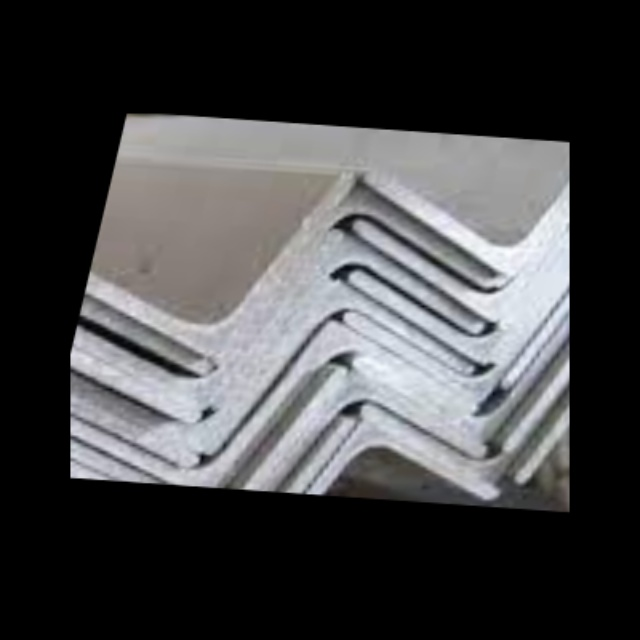Angle: (75, 174, 338, 351), (336, 241, 570, 395), (351, 284, 570, 438), (70, 366, 329, 494), (353, 129, 570, 269), (344, 185, 570, 315), (70, 361, 295, 491), (243, 387, 484, 505), (70, 290, 215, 478), (70, 407, 342, 495), (346, 247, 558, 355), (70, 339, 286, 441), (264, 426, 505, 507), (70, 339, 203, 485), (70, 386, 206, 486), (509, 242, 570, 383), (523, 332, 570, 479), (70, 435, 200, 486)
